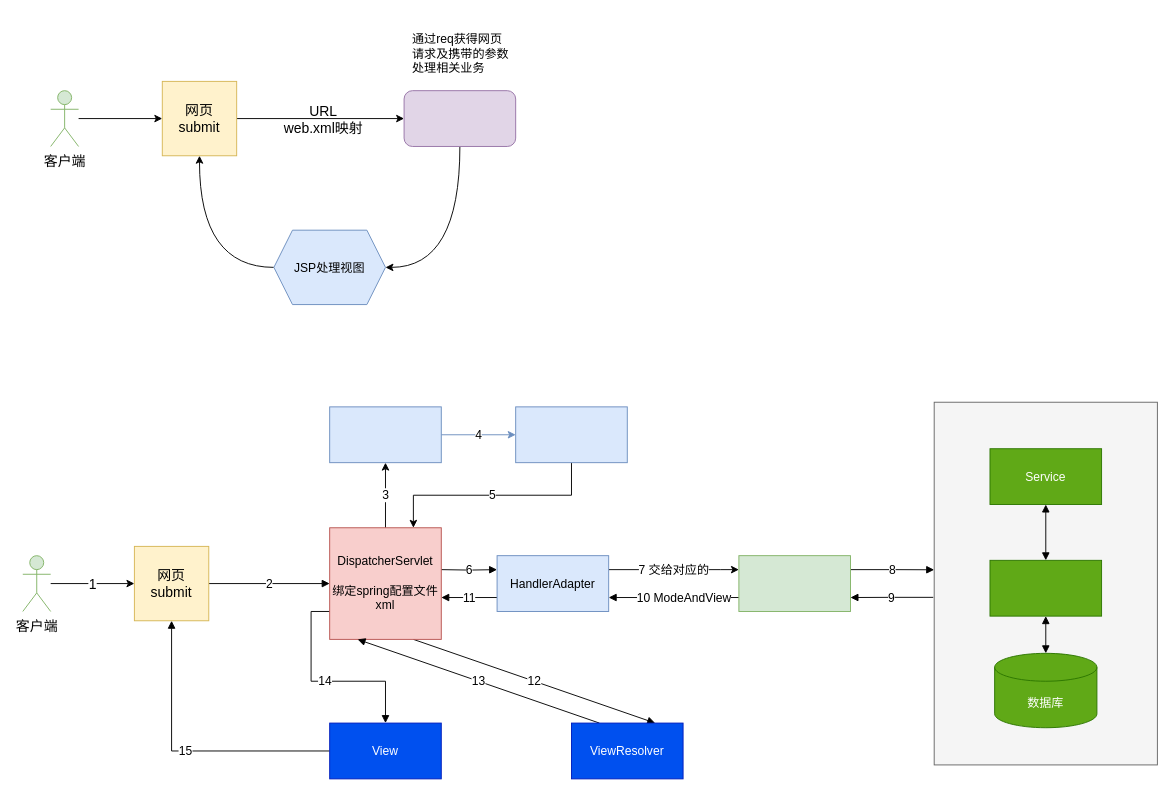
Some shapes in this 1174 by 795 pixel diagram are drawn without their labels. Here are the shapes that lost their labels. From the top down, the box of each, then its label:
(403, 90, 516, 146): servlet
(329, 406, 441, 463): HandlerMapping
(515, 406, 627, 463): HandlerExecution
(738, 555, 850, 611): Controller
(989, 559, 1102, 616): Repository
